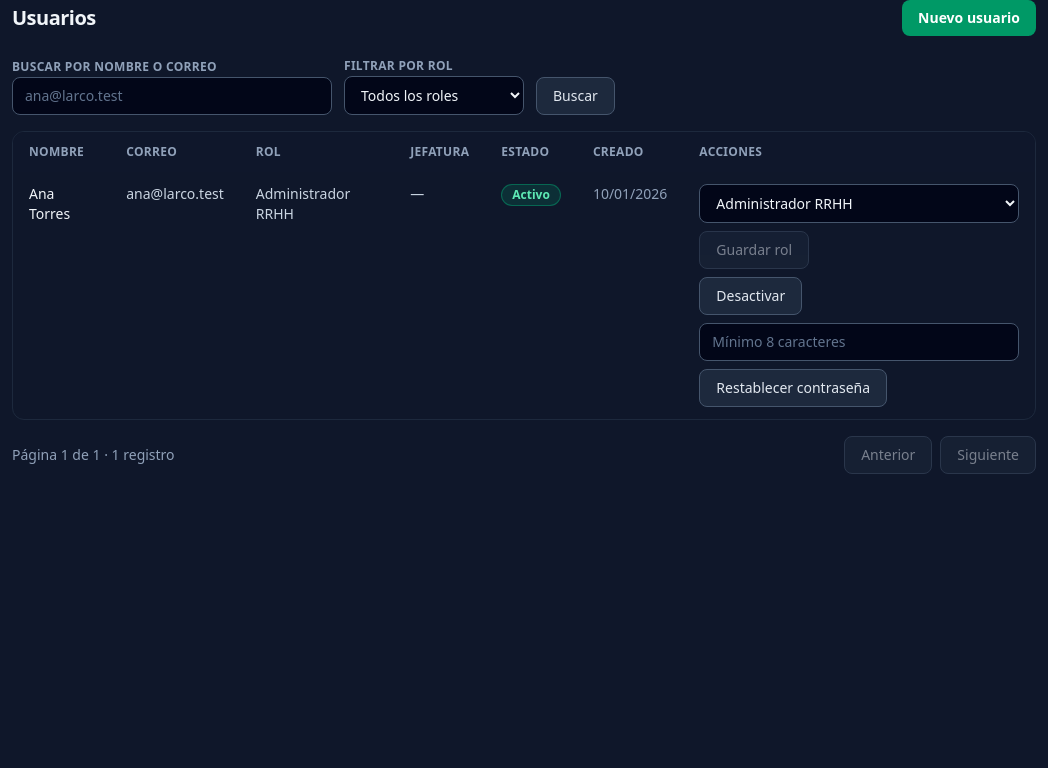
listado de usuarios (gestión exclusiva del superusuario) › un 409 del servidor se muestra con MensajeError (mensaje en español)
The width and height of the screenshot is (1048, 768).
Expected: the text "Ana Torres" is shown, 13,172 -> 110,419
Click the button named "Desactivar a Ana Torres" at (751, 296), box 699,277 -> 802,315
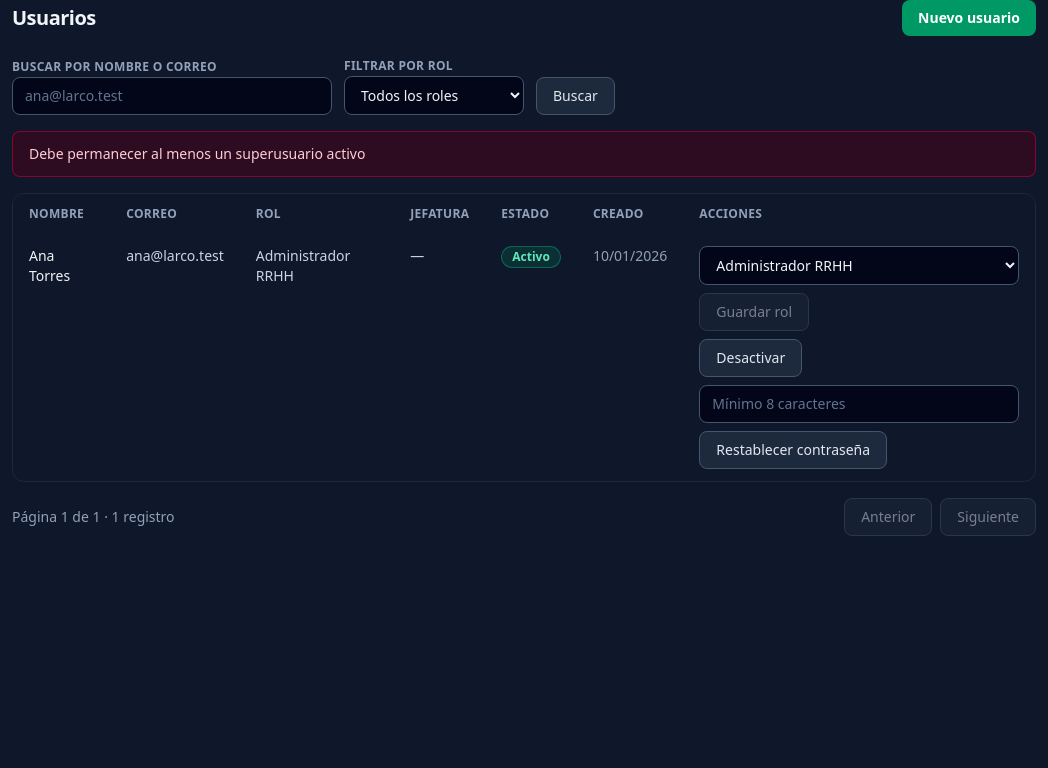
Expected: the message reads "Debe permanecer al menos un superusuario activo", 29,144 -> 365,163
